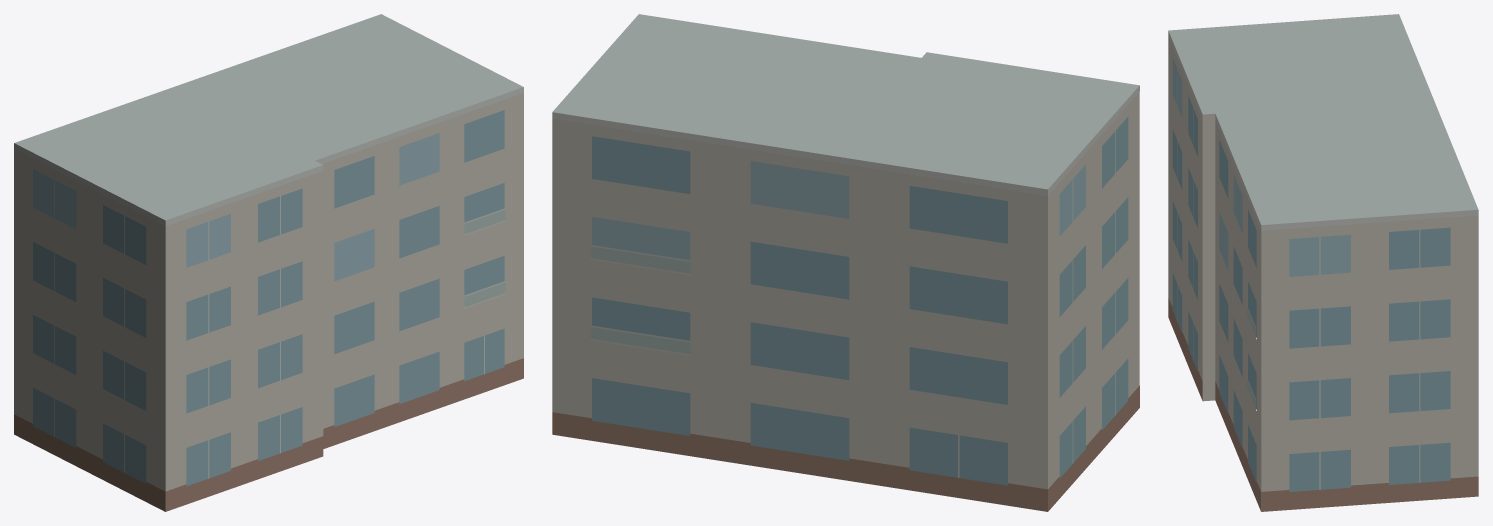
File: survey-upis-32932520.glb
The picture shows the model from 3 angles, left to right: view 1: azimuth 30°, elevation 25°; view 2: azimuth 150°, elevation 25°; view 3: azimuth 270°, elevation 25°; orthographic projection. The views are drawn at different scales.
Visible parts, largest first — view 1: survey-upis-32932520.tmp; view 2: survey-upis-32932520.tmp; view 3: survey-upis-32932520.tmp.
Boxes of the visible parts, bbox=[...] form: survey-upis-32932520.tmp: bbox=[14, 14, 523, 511]; survey-upis-32932520.tmp: bbox=[552, 14, 1139, 511]; survey-upis-32932520.tmp: bbox=[1168, 14, 1478, 511].
Size of the model in its own units: 19.28 by 12.2 by 11.97.
